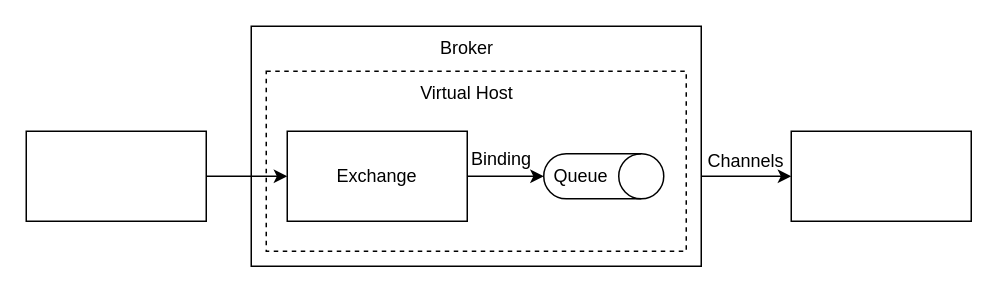
Some shapes in this 998 by 293 pixel diagram are drawn without their labels. The box of each missing label's shape, as (x1, y1, x2, y2) in pixels:
Client: (25, 130, 206, 221)
Server: (790, 130, 971, 221)
